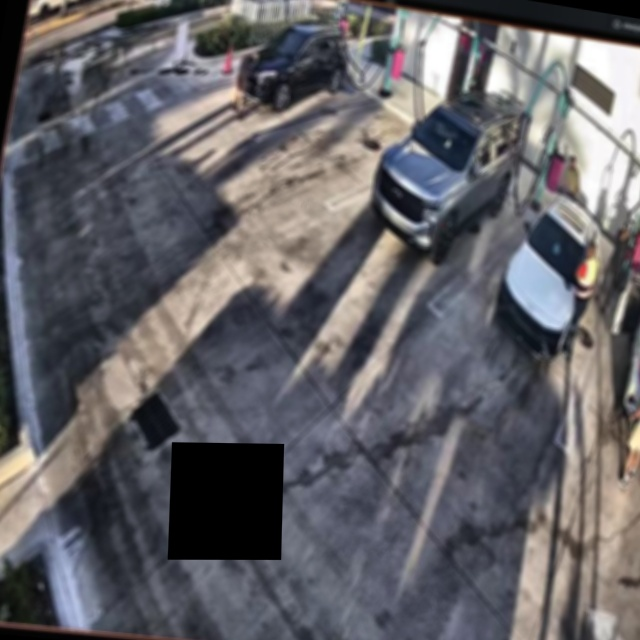Car: (360, 62, 523, 273)
